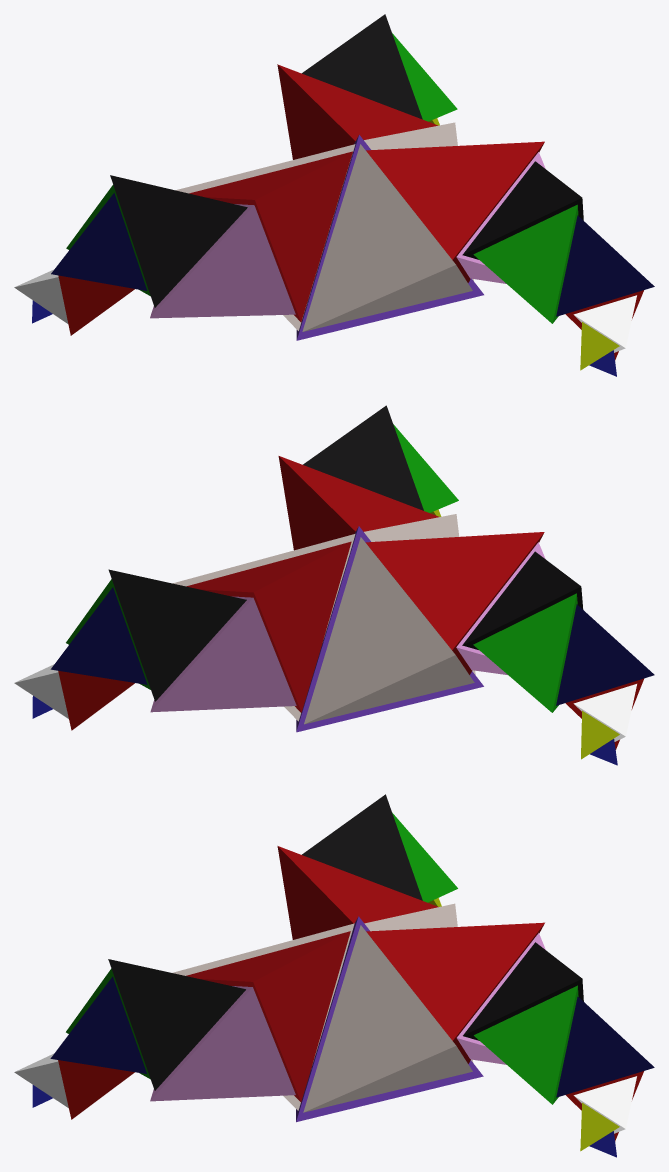
Rendered from Tetra_multi_connected.obj.
3 views of the same model, one above another, from view 1: azimuth 30°, elevation 25°; view 2: azimuth 150°, elevation 25°; view 3: azimuth 270°, elevation 25° (orthographic).
Parts seen in each view (by area): view 1: Tetra-p2_64_Cone.020, Tetra-p2_58_Cone.019, Tetra-p1_58_Cone.003, Tetra-p1_52_Cone.004, Tetra-p1_46_Cone.005, Tetra-p3_58_Cone.022, Tetra-p2_40_Cone.016, Tetra-p3_46_Cone.024, Tetra-p2_34_Cone.015, Tetra-p1_34_Cone.006, Tetra-p2_46_Cone.017, Tetra-base_70_Cone (+9 smaller); view 2: Tetra-p1_64_Cone.002, Tetra-p1_58_Cone.003, Tetra-p3_58_Cone.022, Tetra-p3_52_Cone.023, Tetra-p3_46_Cone.024, Tetra-p2_58_Cone.019, Tetra-p1_40_Cone.001, Tetra-p2_46_Cone.017, Tetra-p1_34_Cone.006, Tetra-p3_34_Cone.026, Tetra-p1_46_Cone.005, Tetra-base_70_Cone (+9 smaller); view 3: Tetra-p3_64_Cone.021, Tetra-p3_58_Cone.022, Tetra-p2_58_Cone.019, Tetra-p2_52_Cone.018, Tetra-p2_46_Cone.017, Tetra-p1_58_Cone.003, Tetra-p3_40_Cone.025, Tetra-p1_46_Cone.005, Tetra-p3_34_Cone.026, Tetra-p2_34_Cone.015, Tetra-p3_46_Cone.024, Tetra-base_70_Cone (+9 smaller).
Boxes of the visible parts, x1,y1,x2,y2 form: Tetra-p2_64_Cone.020: [302, 144, 472, 331]; Tetra-p2_58_Cone.019: [366, 141, 544, 282]; Tetra-p1_58_Cone.003: [189, 151, 352, 322]; Tetra-p1_52_Cone.004: [150, 204, 295, 318]; Tetra-p1_46_Cone.005: [110, 175, 247, 307]; Tetra-p3_58_Cone.022: [277, 64, 437, 159]; Tetra-p2_40_Cone.016: [473, 204, 578, 323]; Tetra-p3_46_Cone.024: [302, 14, 422, 119]; Tetra-p2_34_Cone.015: [556, 215, 654, 316]; Tetra-p1_34_Cone.006: [51, 193, 147, 290]; Tetra-p2_46_Cone.017: [462, 161, 583, 259]; Tetra-base_70_Cone: [296, 134, 483, 340]; Tetra-p1_64_Cone.002: [304, 537, 474, 724]; Tetra-p1_58_Cone.003: [365, 532, 544, 674]; Tetra-p3_58_Cone.022: [186, 541, 351, 712]; Tetra-p3_52_Cone.023: [150, 596, 296, 712]; Tetra-p3_46_Cone.024: [108, 569, 246, 701]; Tetra-p2_58_Cone.019: [278, 456, 438, 550]; Tetra-p1_40_Cone.001: [473, 593, 577, 712]; Tetra-p2_46_Cone.017: [303, 405, 423, 510]; Tetra-p1_34_Cone.006: [556, 604, 654, 705]; Tetra-p3_34_Cone.026: [50, 587, 147, 684]; Tetra-p1_46_Cone.005: [462, 551, 583, 649]; Tetra-base_70_Cone: [296, 526, 483, 732]; Tetra-p3_64_Cone.021: [303, 925, 472, 1112]; Tetra-p3_58_Cone.022: [366, 922, 544, 1063]; Tetra-p2_58_Cone.019: [186, 931, 350, 1102]; Tetra-p2_52_Cone.018: [150, 986, 295, 1101]; Tetra-p2_46_Cone.017: [108, 959, 245, 1090]; Tetra-p1_58_Cone.003: [277, 846, 438, 939]; Tetra-p3_40_Cone.025: [474, 985, 578, 1104]; Tetra-p1_46_Cone.005: [302, 794, 422, 900]; Tetra-p3_34_Cone.026: [556, 996, 654, 1097]; Tetra-p2_34_Cone.015: [50, 976, 146, 1073]; Tetra-p3_46_Cone.024: [463, 942, 583, 1040]; Tetra-base_70_Cone: [296, 916, 483, 1122].
Size of the model in its own units: 192 by 59.61 by 207.
